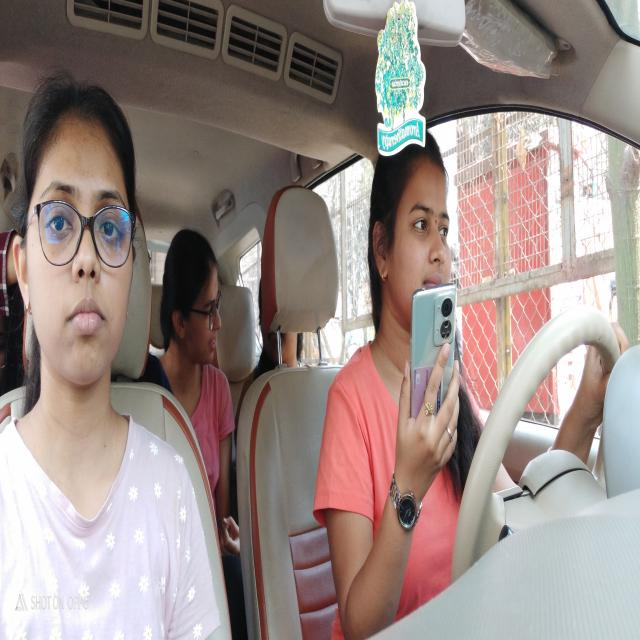mobile: (409, 284, 461, 451)
person: (16, 79, 142, 412), (369, 119, 462, 346), (162, 222, 220, 375), (260, 325, 303, 365)
